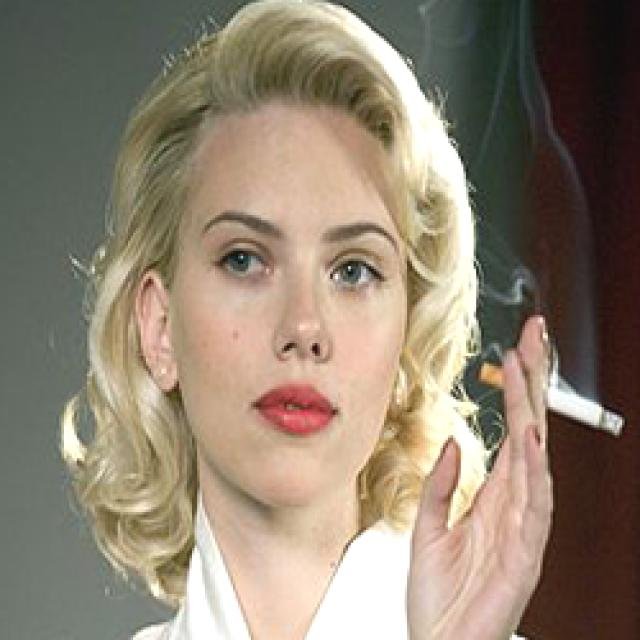Smooking: (466, 353, 640, 443)
